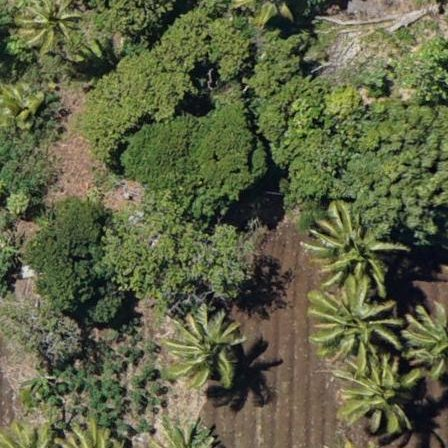palm_tree: (311, 275, 391, 360), (309, 197, 389, 282), (169, 308, 244, 388), (341, 358, 417, 431), (18, 1, 85, 61)
